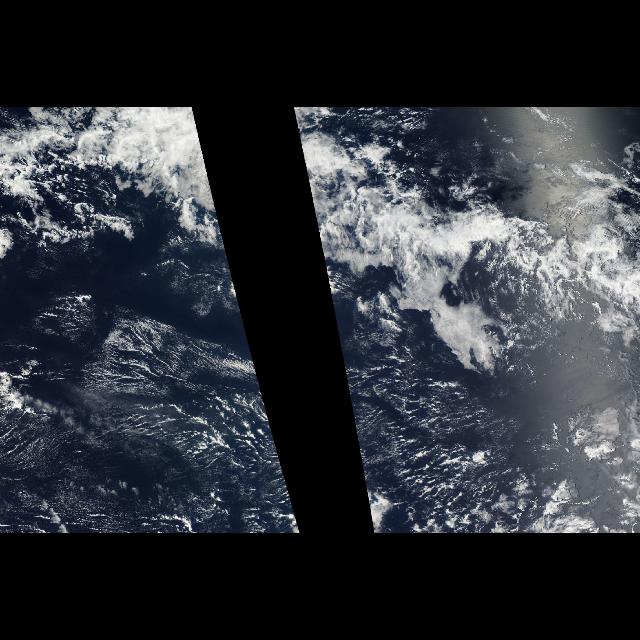Fish: (92, 306, 260, 408)
Flower: (301, 144, 601, 366)
Gravel: (377, 374, 533, 490)
Sugar: (0, 302, 300, 532), (329, 302, 486, 532), (548, 336, 634, 428)
